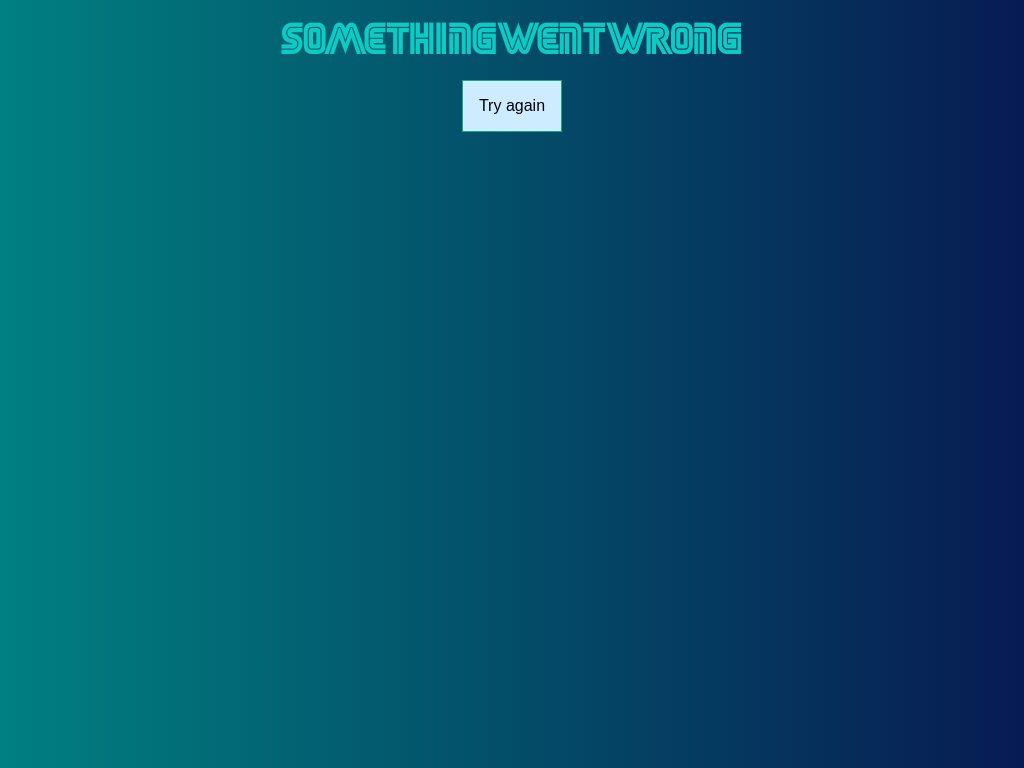
App › shows an error with a retry button that refetches
Expected: the heading "Something went wrong" is shown, [282,23,742,54]
Click the button "Try again" at (512, 106), box [462,80,562,132]
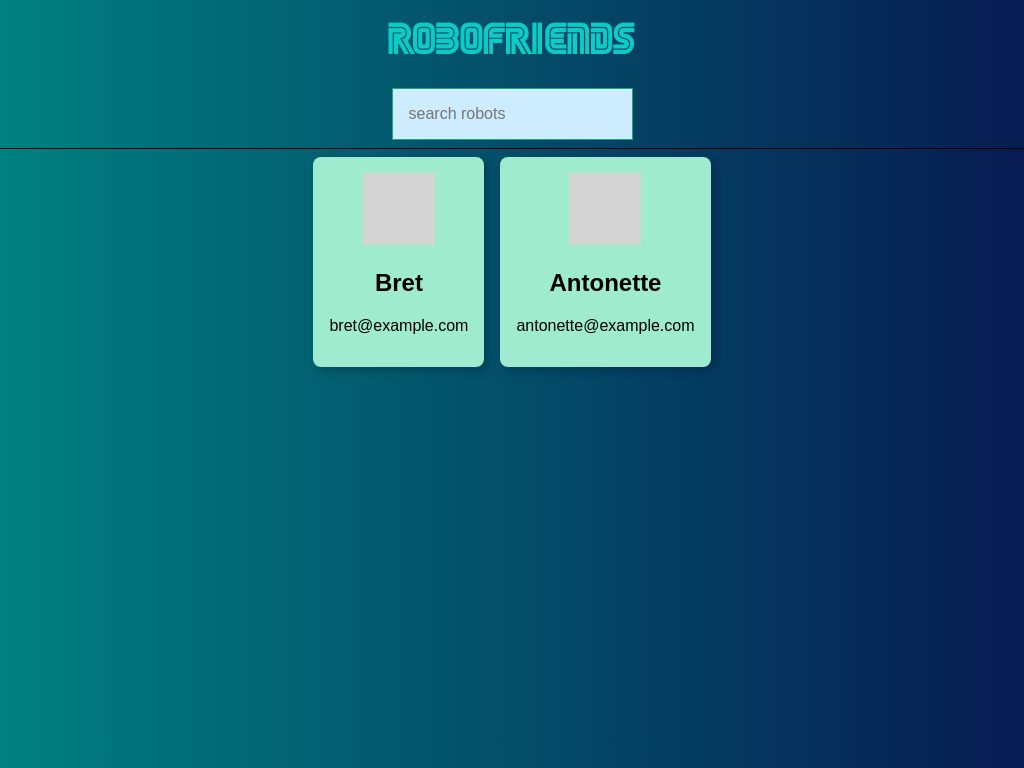
Result: the heading "Bret" is shown at [375,269,423,296]
